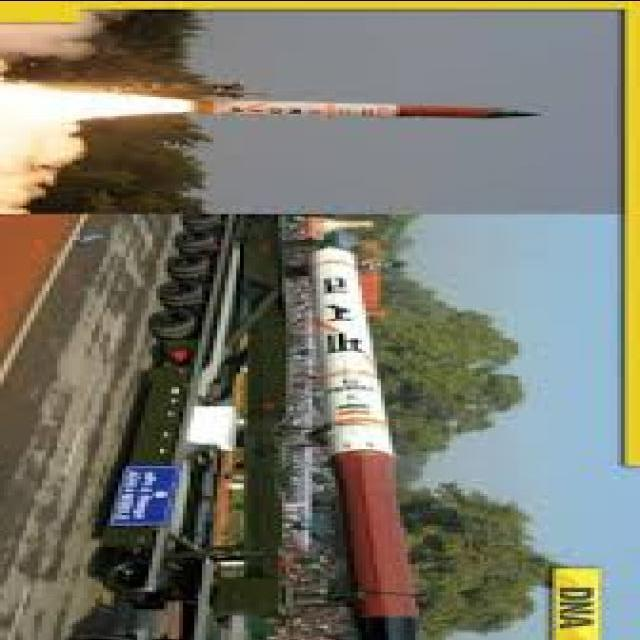Missile: (291, 208, 435, 640), (183, 92, 578, 124)
